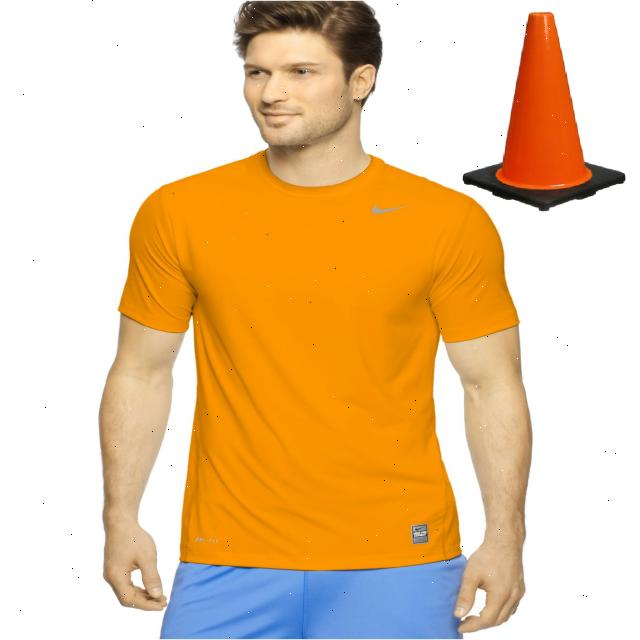traffic cone: (456, 6, 632, 219)
